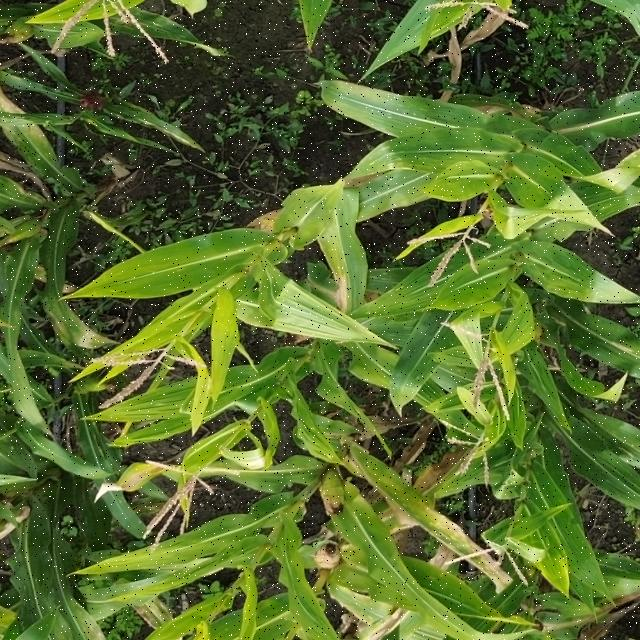gray-leaf-spot: (350, 444, 528, 608)
northern-leaf-blight: (362, 91, 466, 202), (309, 233, 380, 334), (96, 442, 192, 505)
southern-leaf-blight: (8, 90, 92, 210), (30, 255, 107, 354), (377, 324, 452, 416), (569, 413, 640, 506)
